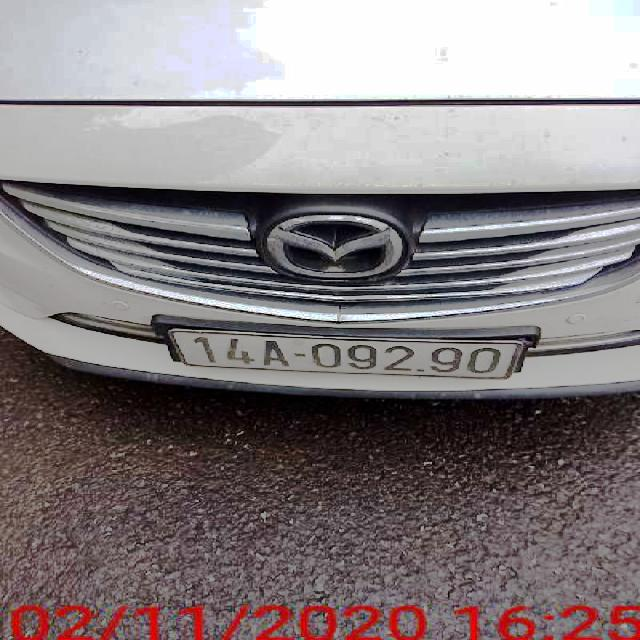license_plate: (173, 328, 523, 380)
